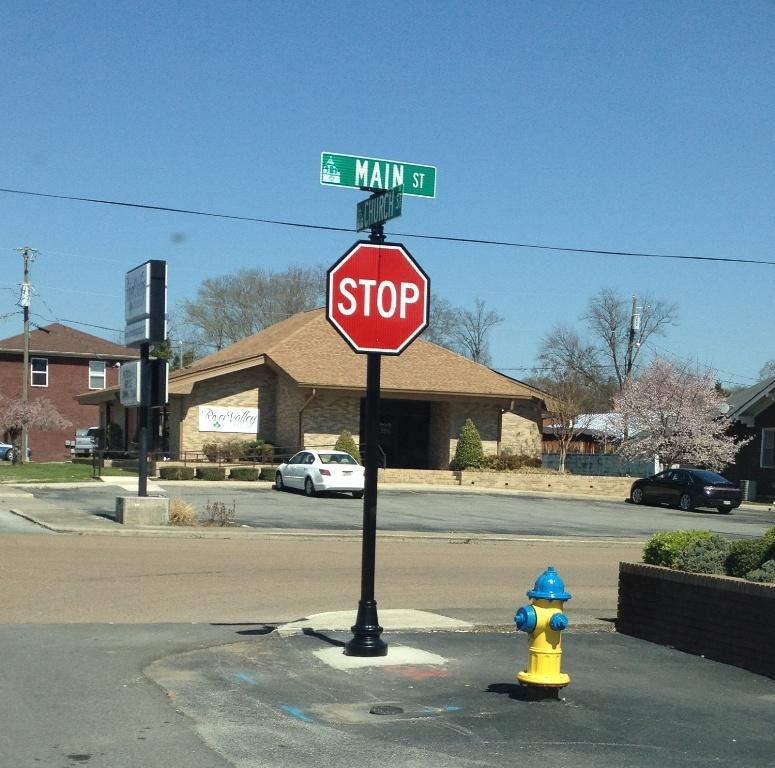Pole: (361, 355, 382, 655), (139, 407, 147, 497)
Sign: (326, 244, 430, 353)
